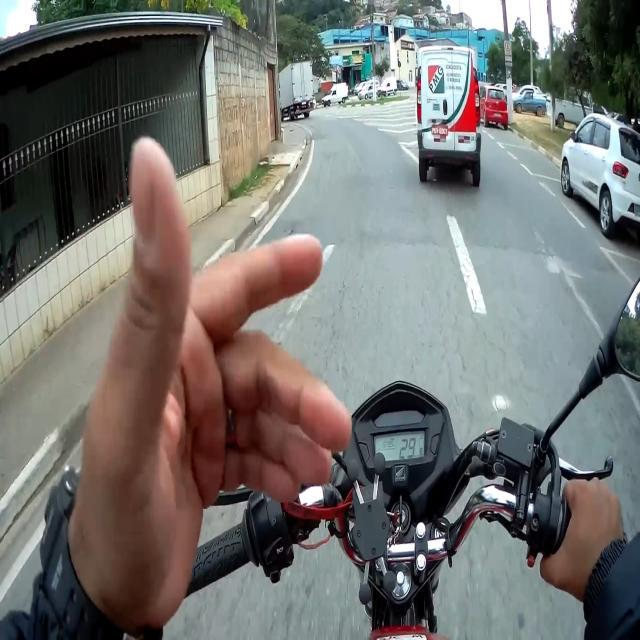Placa_mercosul_carro: (432, 126, 448, 135)
